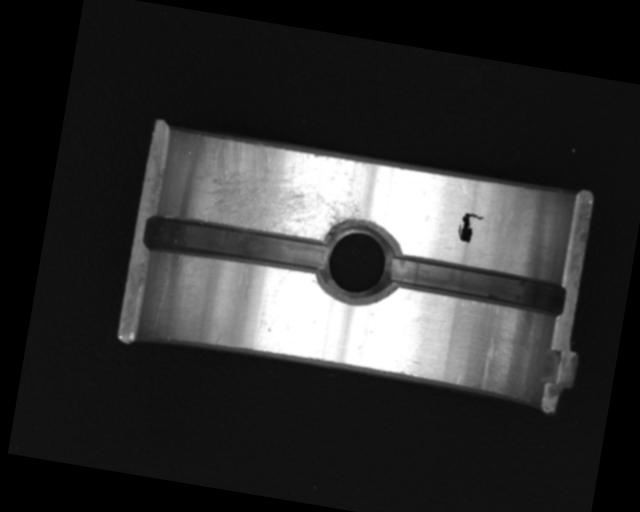blot: (455, 209, 483, 245)
gap: (141, 210, 329, 278), (387, 253, 567, 316)
hole: (314, 215, 405, 304)
nick: (478, 336, 498, 387)
scratch: (186, 135, 375, 247)
